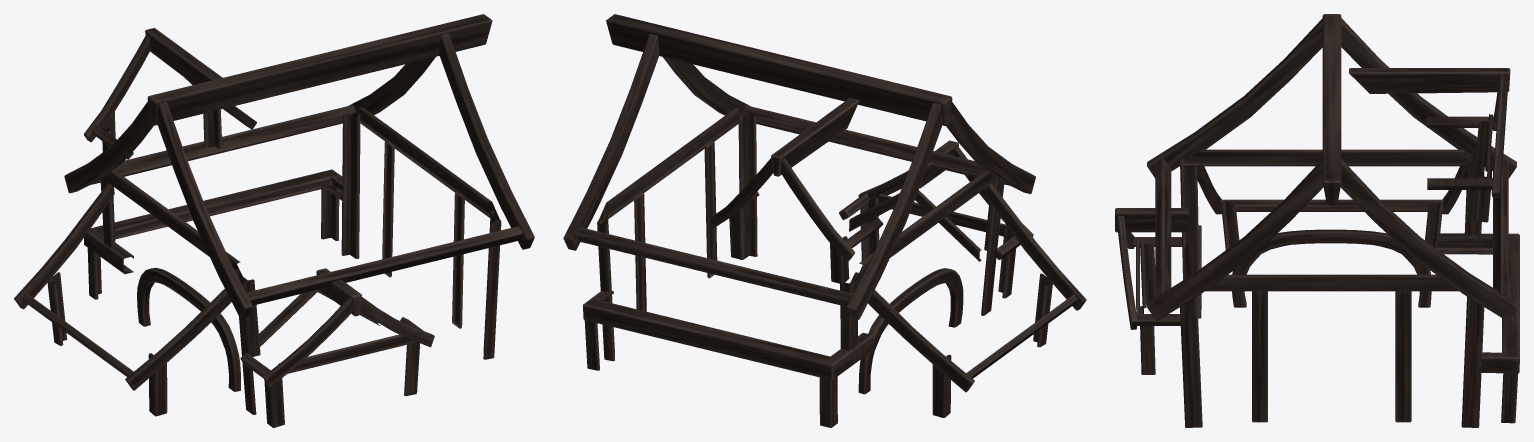
Rendered from m_SupportPlanks.fbx.
The picture shows the model from 3 angles, left to right: view 1: azimuth 30°, elevation 25°; view 2: azimuth 150°, elevation 25°; view 3: azimuth 270°, elevation 25°; orthographic projection. The views are drawn at different scales.
Parts seen in each view (by area): view 1: SupportPlanks; view 2: SupportPlanks; view 3: SupportPlanks.
Part boxes in pixels (left/top/right/bottom): SupportPlanks: left=14, top=14, right=534, bottom=427; SupportPlanks: left=563, top=14, right=1086, bottom=427; SupportPlanks: left=1115, top=14, right=1519, bottom=427.
Bounding box in the file's own units: 908 × 566 × 743.
